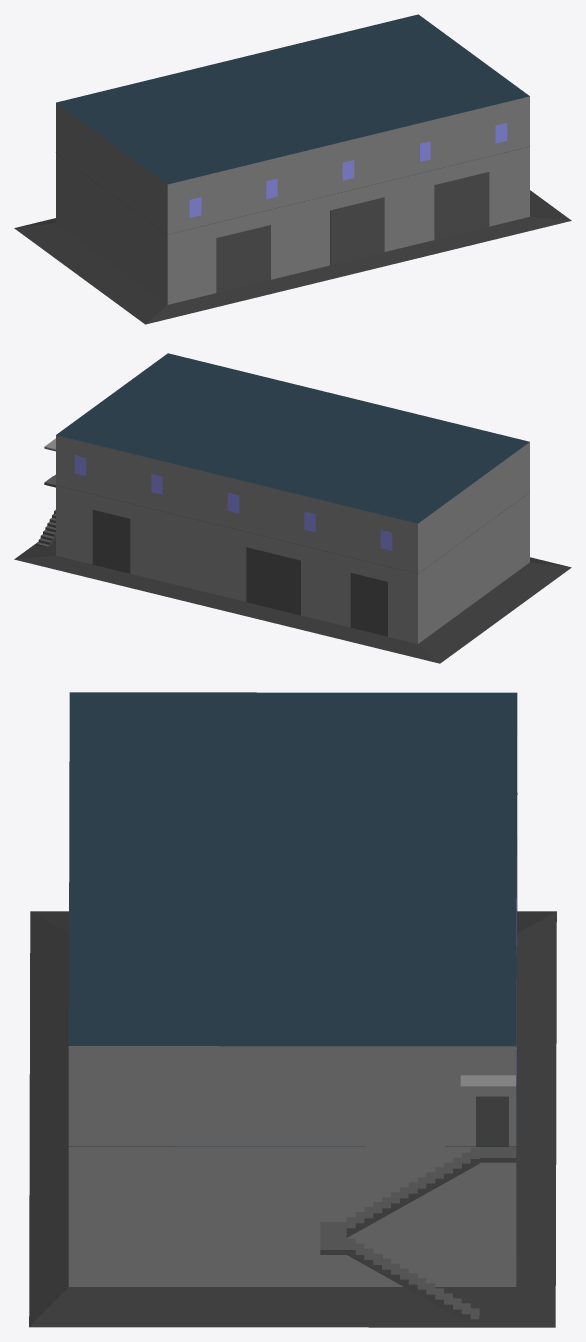
The model's file is zhus.fbx.
3 renders of one model, top to bottom at view 1: azimuth 30°, elevation 25°; view 2: azimuth 150°, elevation 25°; view 3: azimuth 270°, elevation 25°, orthographic. The views are drawn at different scales.
Parts seen in each view (by area): view 1: Model; view 2: Model; view 3: Model, U_Shaped_Stairs.
Part boxes in pixels (x1,y1,x2,y2): Model: (14,14,571,324); Model: (14,353,571,663); Model: (29,692,556,1327); U_Shaped_Stairs: (320,1147,479,1323).
Bounding box in the file's own units: 44528 × 12470 × 23852.
